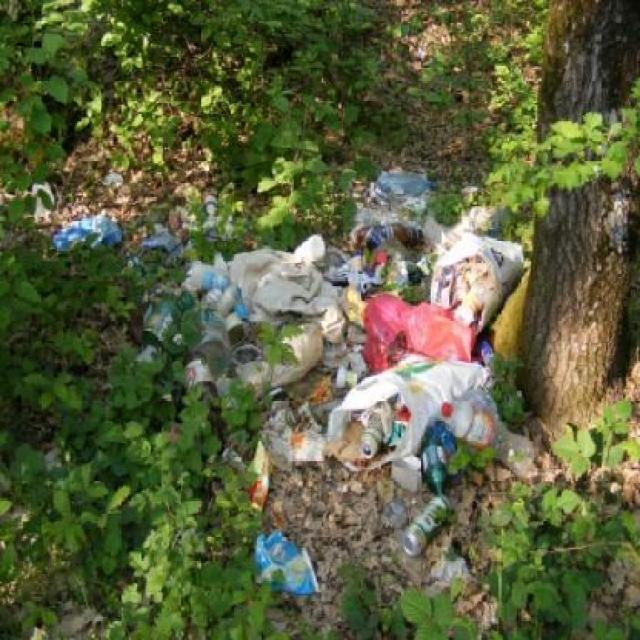garbage: (165, 211, 528, 552), (248, 525, 315, 612), (48, 200, 132, 266), (358, 162, 440, 215)
